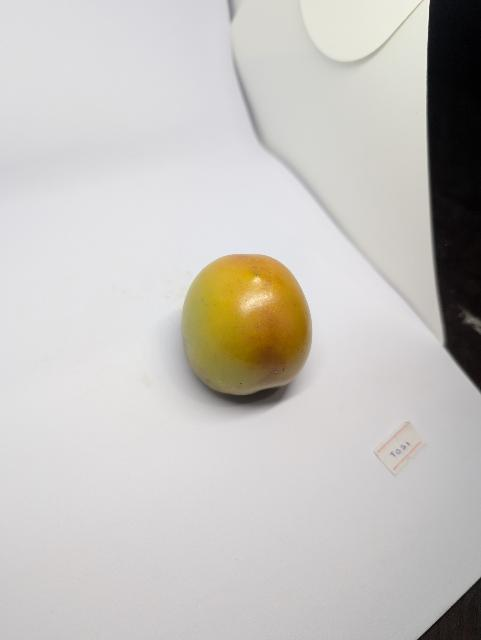turning: (166, 245, 331, 400)
